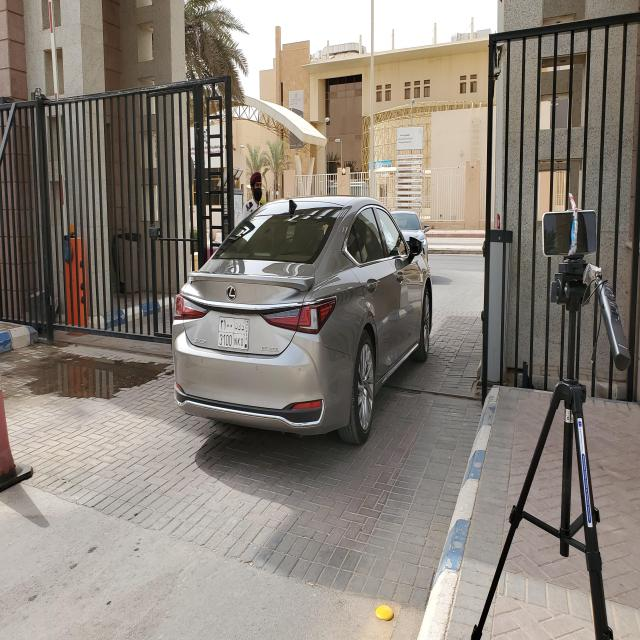license_plate: (217, 314, 249, 352)
